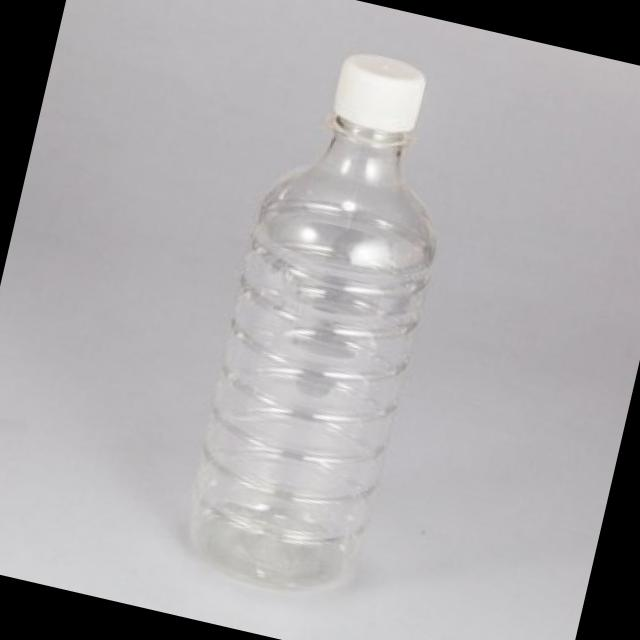plastic_bottle: (170, 36, 482, 612)
